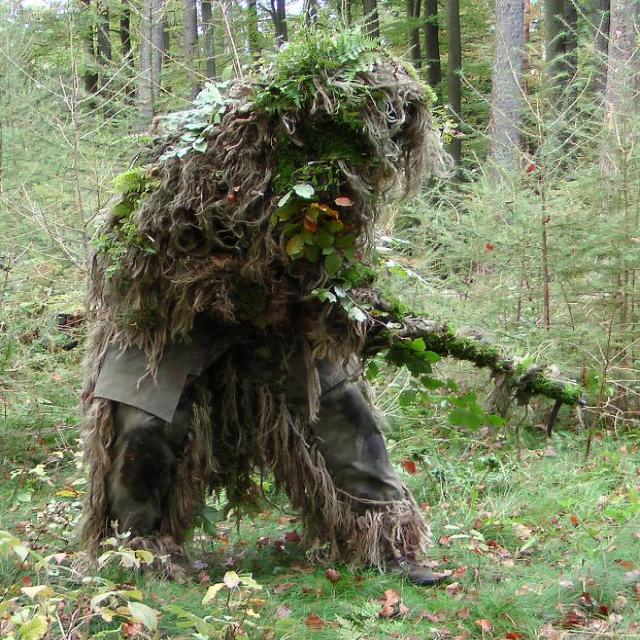Camouflage: (73, 21, 587, 587)
